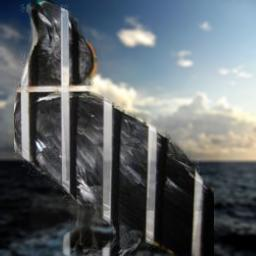Crow: (14, 0, 214, 256)
